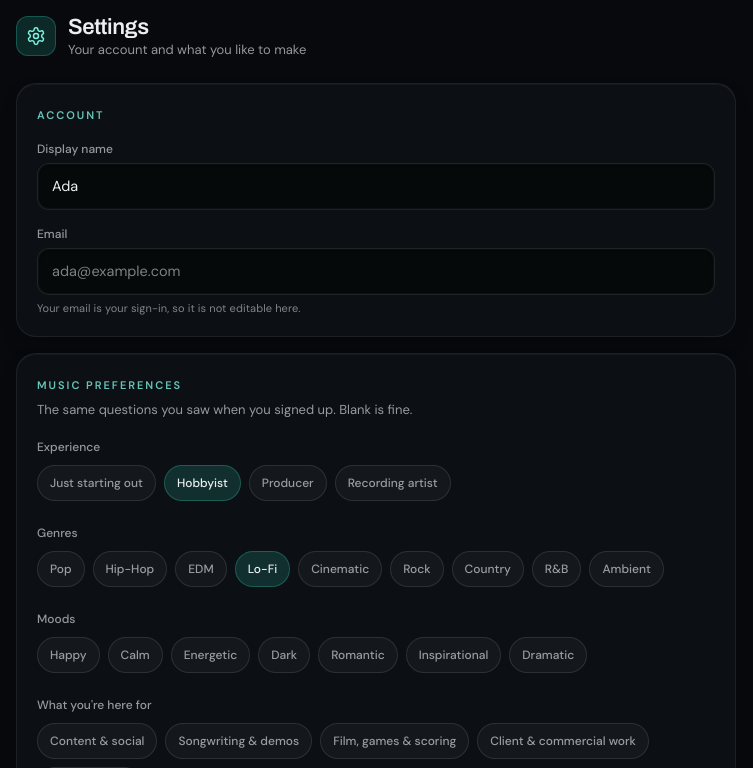
Test: Settings › discards changes back to the server's document
Expected: the field showing "Ada" is shown, top-left (37, 163), bottom-right (715, 210)
Step 1. Click the button "Calm" → {"x": 135, "y": 655}, box top-left (108, 637), bottom-right (163, 673)
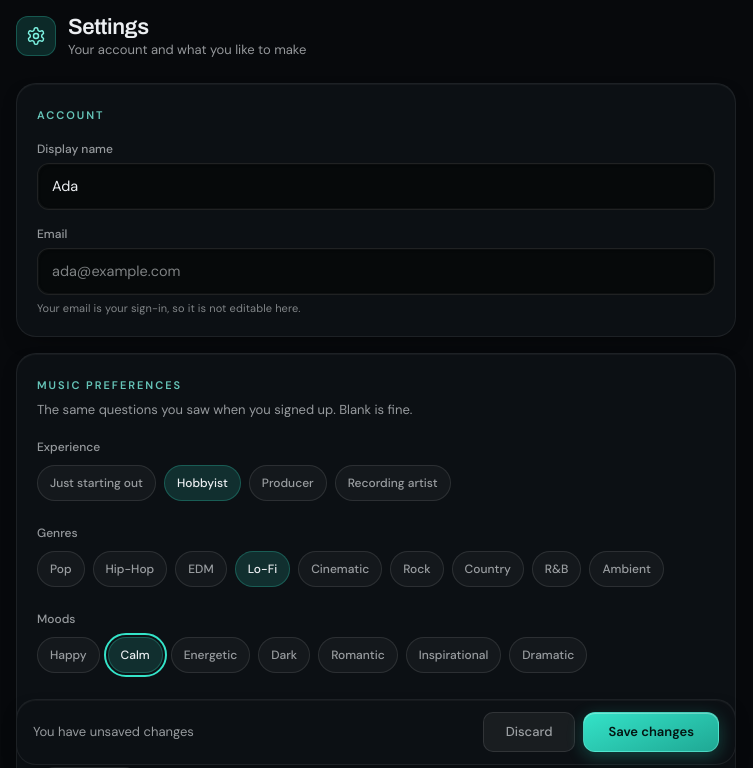
Step 2. Click the button "Discard" → {"x": 529, "y": 732}, box top-left (483, 712), bottom-right (576, 752)
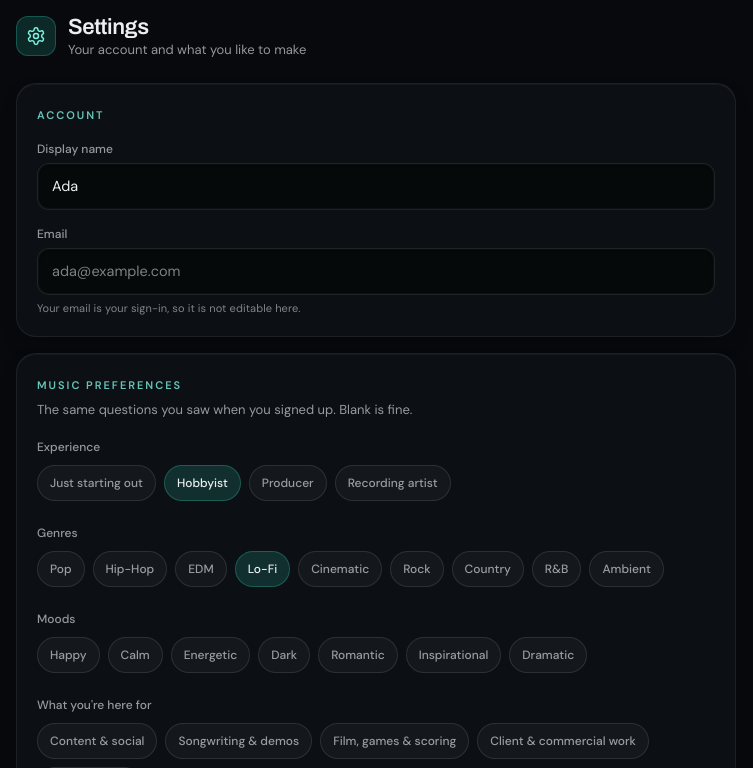
Result: the button "Save changes" is gone
